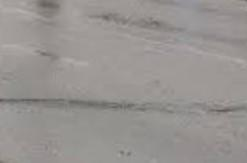crack: (16, 78, 225, 125)
